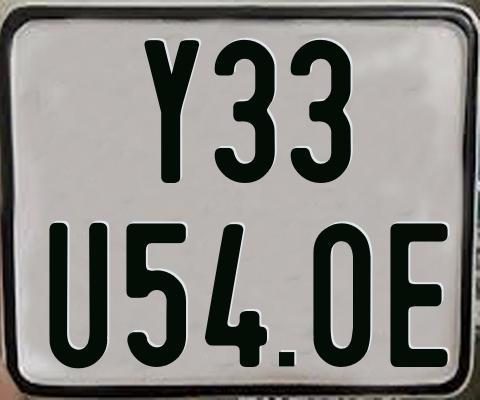0: (313, 221, 375, 367)
3: (288, 37, 355, 181), (211, 37, 275, 182)
4: (204, 222, 269, 370)
5: (123, 221, 188, 365)
E: (390, 222, 454, 367)
U: (47, 221, 109, 372)
Y: (143, 38, 200, 181)
